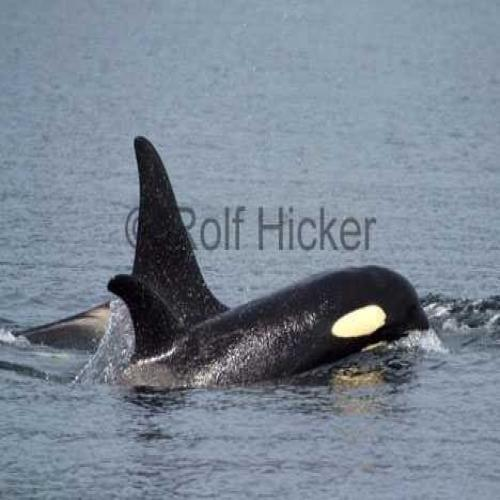killer_whale-endangered: (71, 240, 448, 424), (12, 100, 238, 369)
